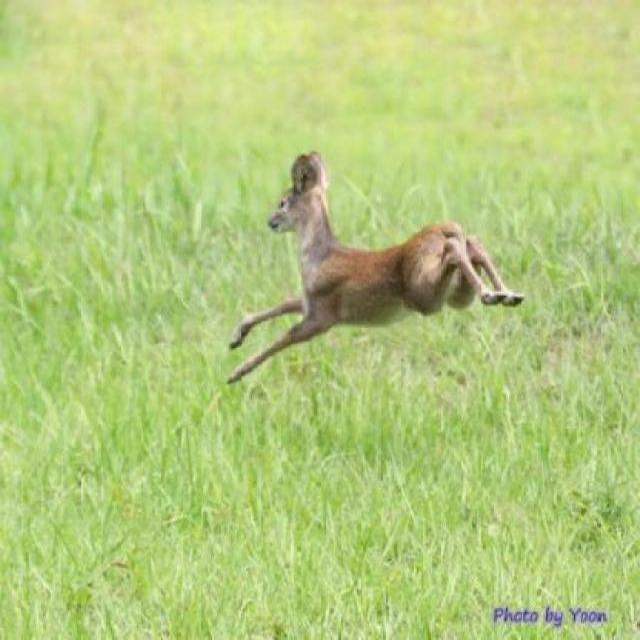deer: (231, 150, 540, 393)
